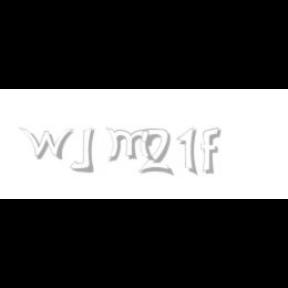1: (176, 128, 198, 176)
2: (138, 128, 172, 176)
J: (70, 128, 94, 172)
f: (201, 128, 225, 174)
m: (105, 128, 157, 162)
w: (20, 128, 78, 160)
